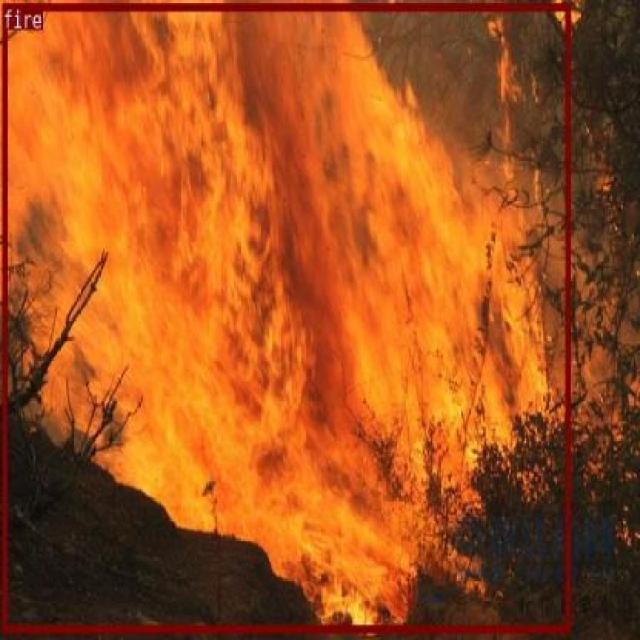Fire: (2, 2, 570, 630)
